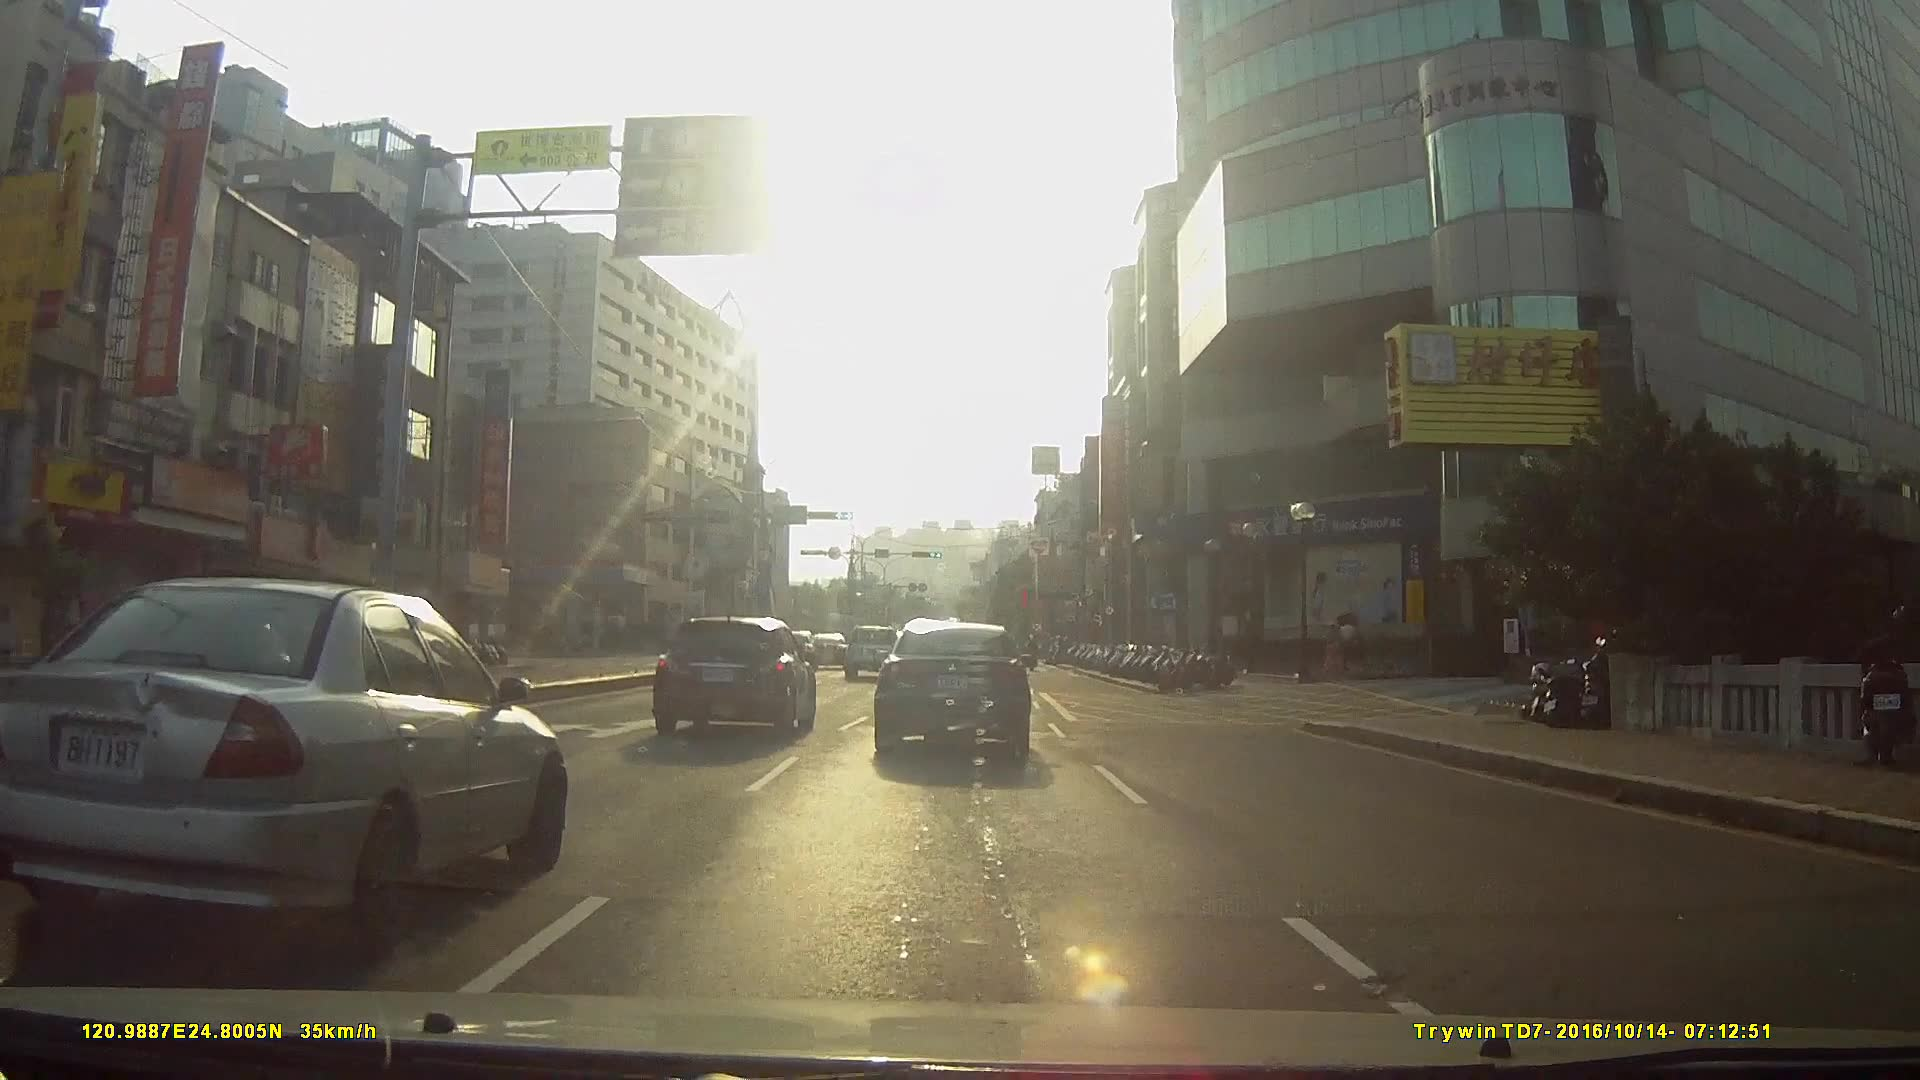vehicle: (0, 572, 563, 959), (873, 613, 1033, 760), (649, 609, 816, 738), (841, 620, 902, 679), (803, 629, 851, 669)
